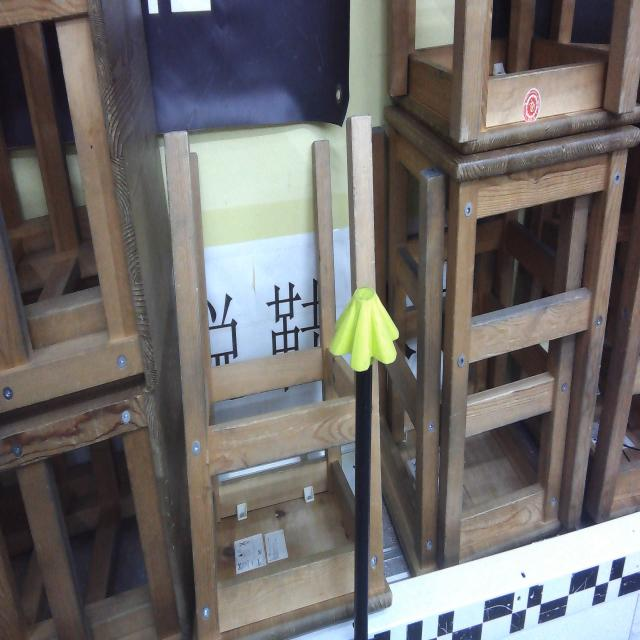Yellow-Stake-Head: (329, 287, 399, 372)
